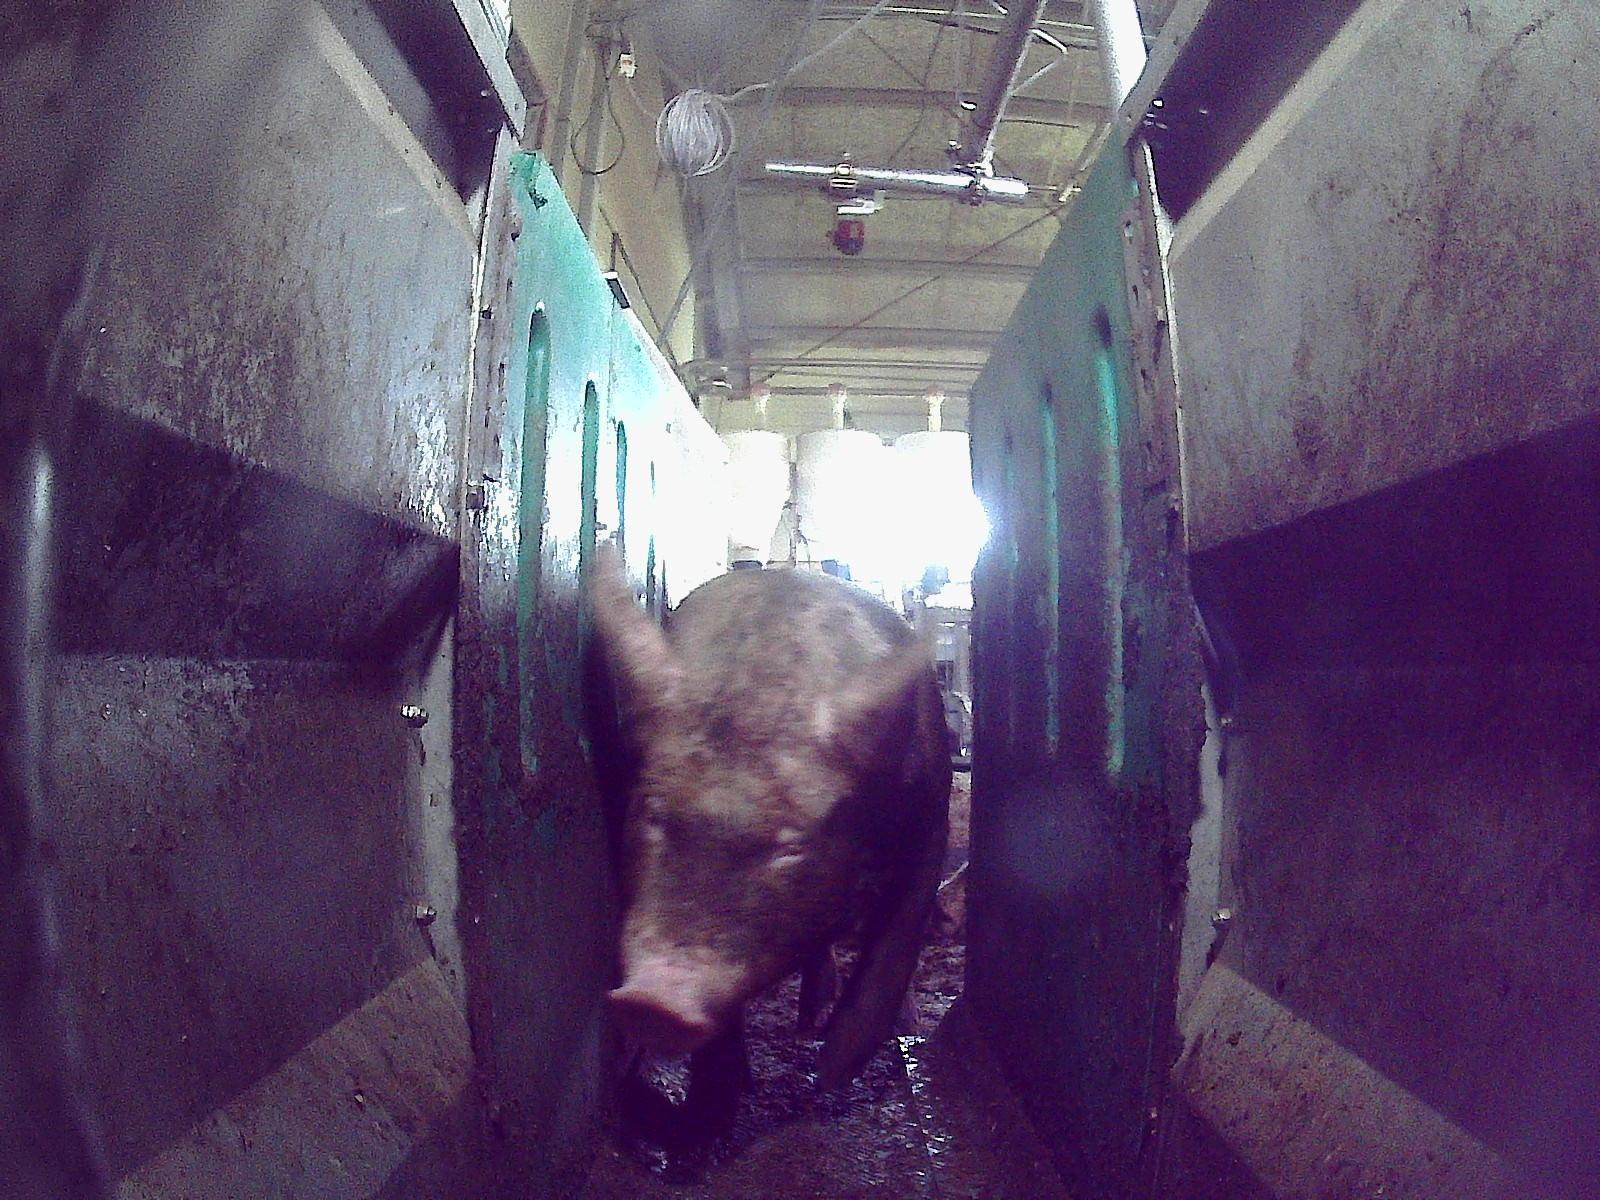Face: (604, 678, 847, 1054)
